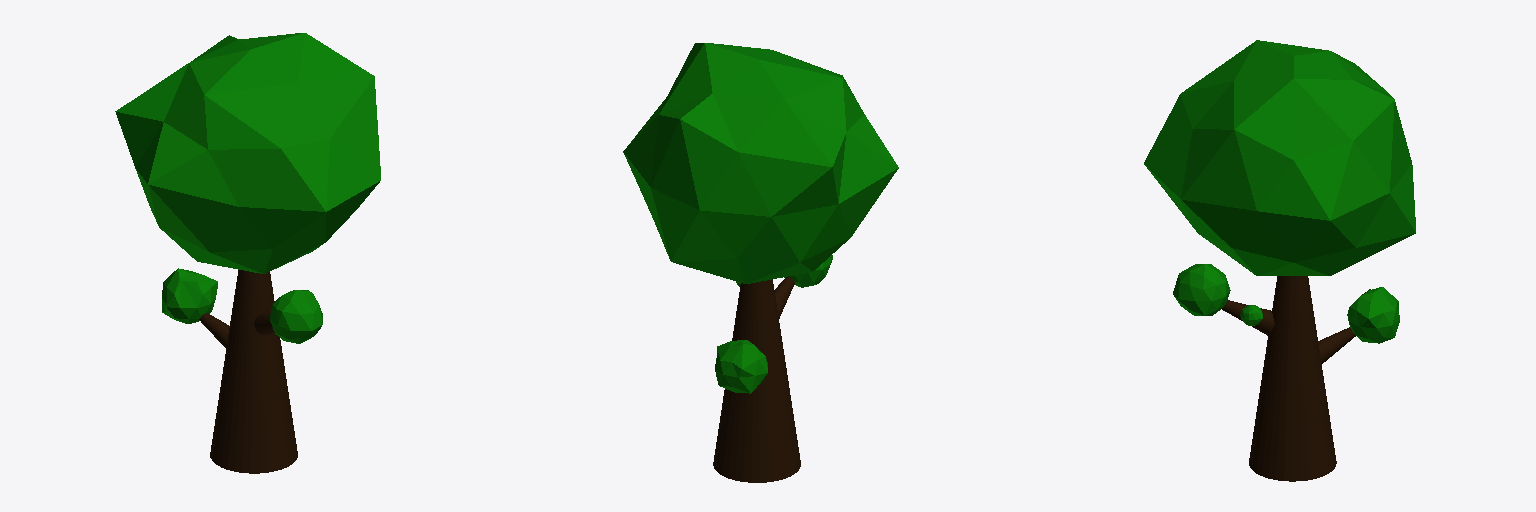
File: cartoonTree.obj
3 renders of one model, left to right at view 1: azimuth 30°, elevation 25°; view 2: azimuth 150°, elevation 25°; view 3: azimuth 270°, elevation 25°, orthographic.
Visible parts, largest first — view 1: Icosphere, Tree_Cylinder, Icosphere.003, Icosphere.001; view 2: Icosphere, Tree_Cylinder, Icosphere.003, Icosphere.001; view 3: Icosphere, Tree_Cylinder, Icosphere.001, Icosphere.003, Cylinder.003, Cylinder.001.
Boxes of the visible parts, <box> form: Icosphere: <box>115,33,380,273</box>; Tree_Cylinder: <box>210,270,297,473</box>; Icosphere.003: <box>162,268,217,323</box>; Icosphere.001: <box>270,290,322,343</box>; Icosphere: <box>623,43,898,283</box>; Tree_Cylinder: <box>713,279,800,482</box>; Icosphere.003: <box>715,340,767,393</box>; Icosphere.001: <box>784,255,832,287</box>; Icosphere: <box>1144,40,1415,275</box>; Tree_Cylinder: <box>1249,276,1336,481</box>; Icosphere.001: <box>1173,264,1230,315</box>; Icosphere.003: <box>1347,287,1399,343</box>; Cylinder.003: <box>1318,327,1355,363</box>; Cylinder.001: <box>1222,300,1274,335</box>.
Size of the model in its own units: 3.56 by 5.83 by 3.52.